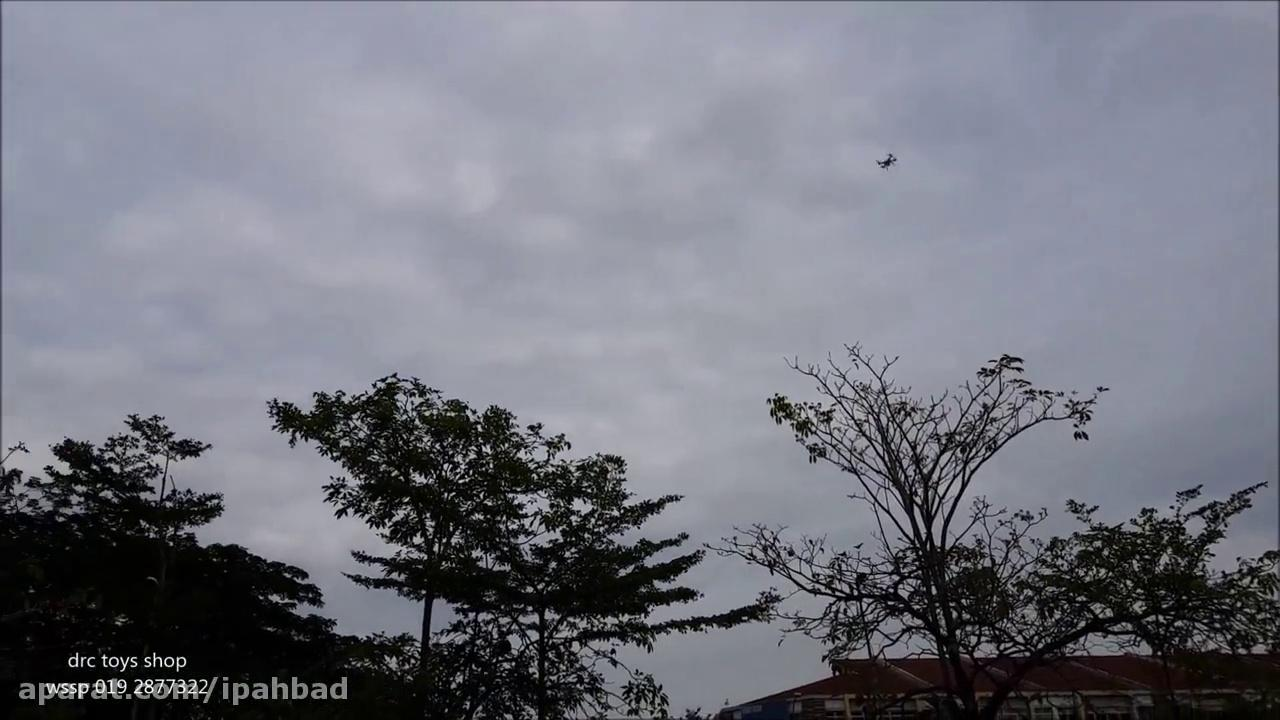drone: (873, 148, 900, 173)
